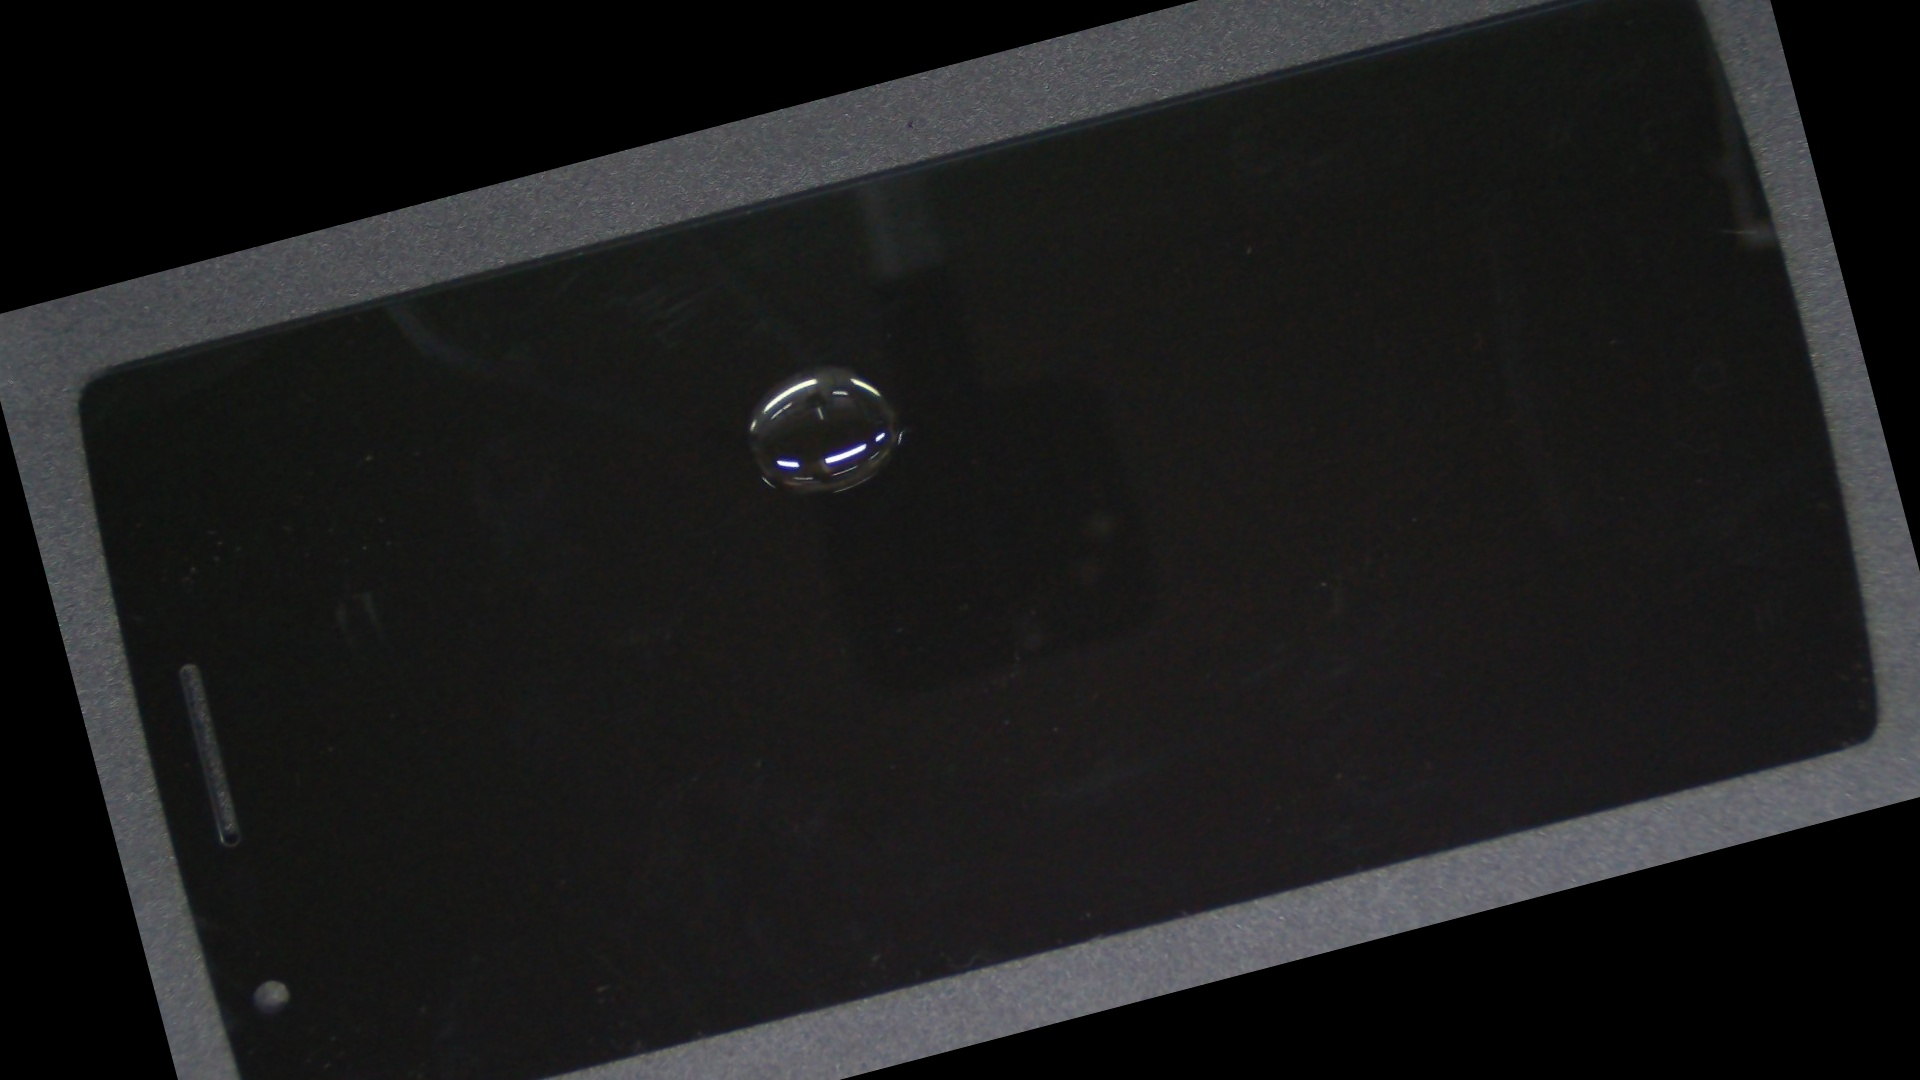oil: (396, 142, 1229, 593)
